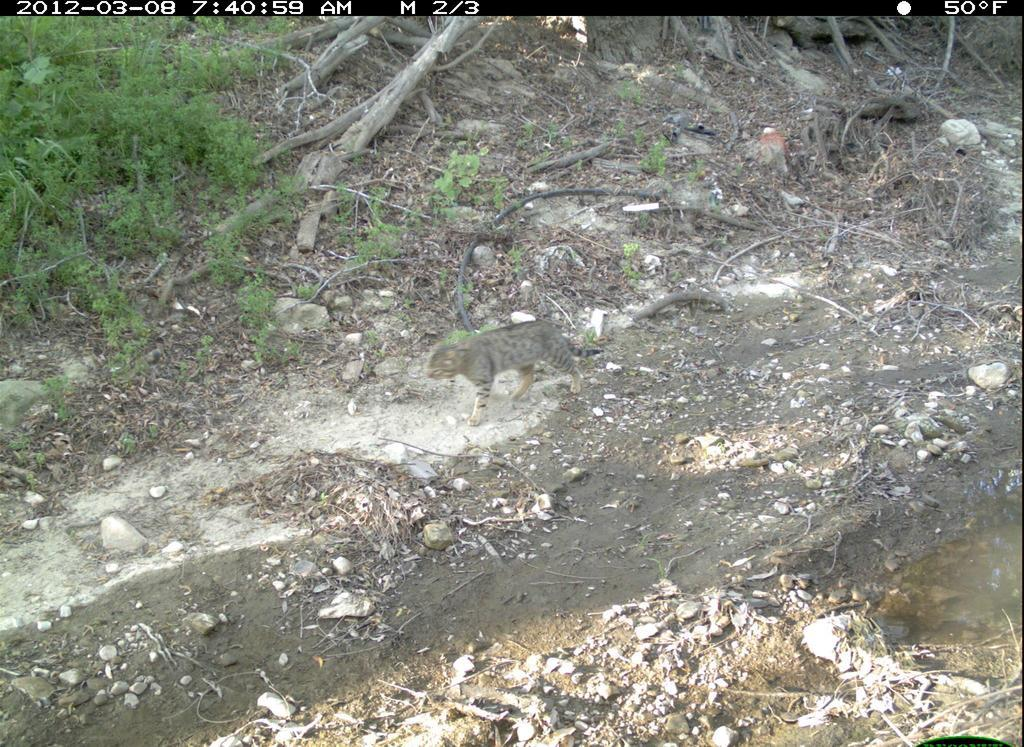cat: (410, 308, 617, 436)
